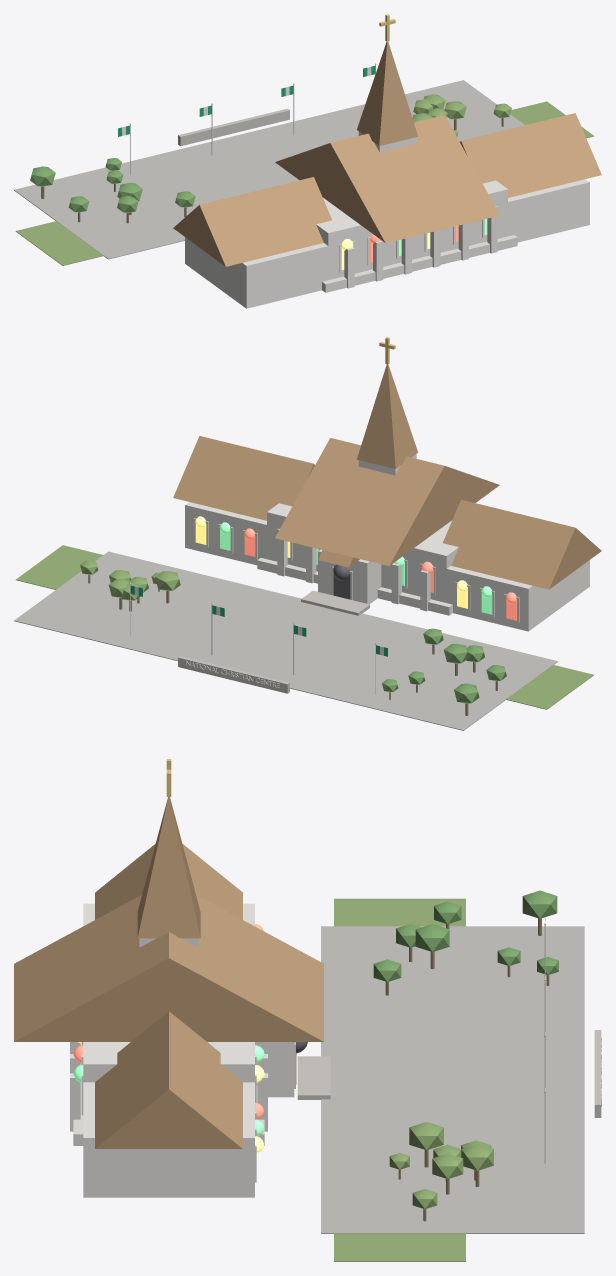
Rendered from national_christian_centre.glb.
3 renders of one model, top to bottom at view 1: azimuth 30°, elevation 25°; view 2: azimuth 150°, elevation 25°; view 3: azimuth 270°, elevation 25°, orthographic. The views are drawn at different scales.
Visible parts, largest first — view 1: BLD_national_christian_centre; view 2: BLD_national_christian_centre; view 3: BLD_national_christian_centre.
Part boxes in pixels (x1=…): BLD_national_christian_centre: x1=14, y1=14, x2=601, y2=308; BLD_national_christian_centre: x1=14, y1=337, x2=601, y2=730; BLD_national_christian_centre: x1=14, y1=759, x2=601, y2=1261.
Size of the model in its own units: 130 by 53.85 by 89.11.
